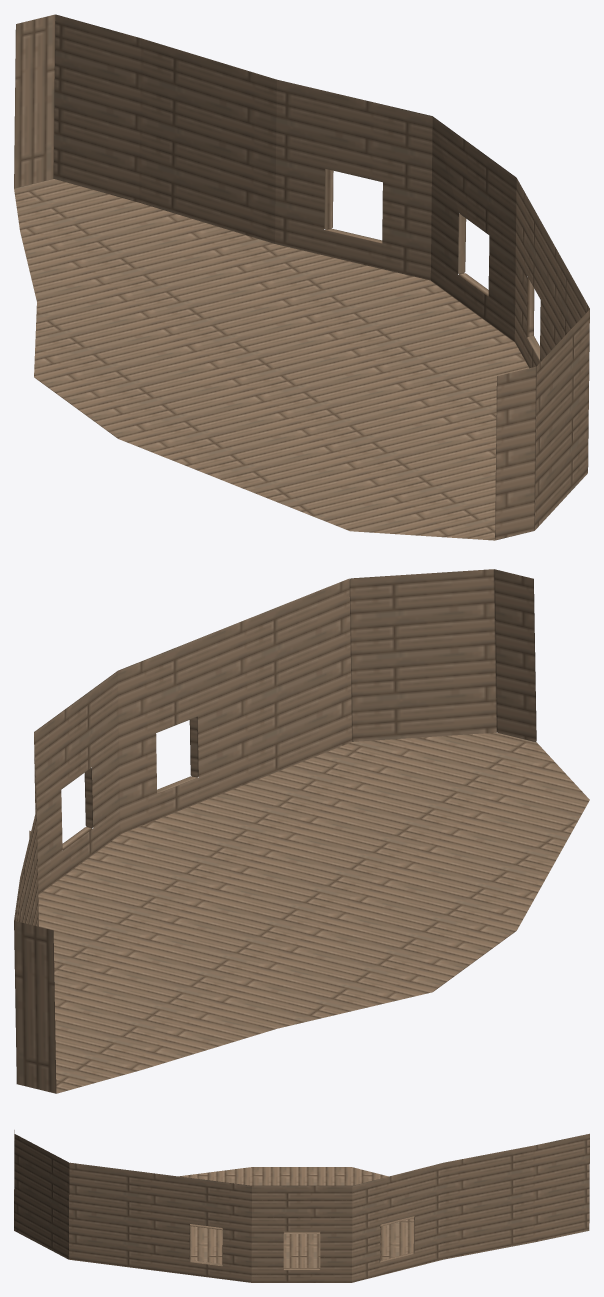
Rendered from ShipInside.fbx.
The picture shows the model from 3 angles, top to bottom: view 1: azimuth 30°, elevation 25°; view 2: azimuth 150°, elevation 25°; view 3: azimuth 270°, elevation 25°; orthographic projection. The views are drawn at different scales.
Visible parts, largest first — view 1: plane; view 2: plane; view 3: plane.
Boxes of the visible parts, <box> form: plane: <box>14,14,589,540</box>; plane: <box>14,569,589,1093</box>; plane: <box>14,1130,589,1282</box>.
Size of the model in its own units: 1023 by 394 by 2102.
Materials: 1 (1 with a texture image).
